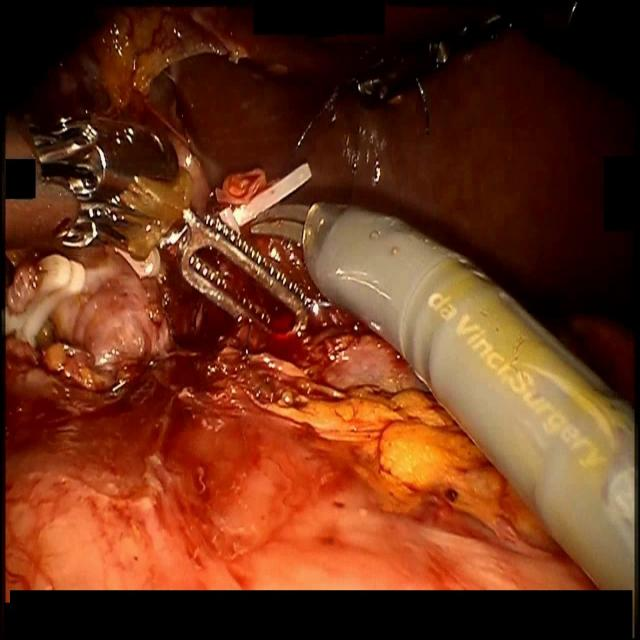surgical-area: (3, 1, 640, 590)
surgical-tool: (292, 200, 636, 589), (3, 117, 312, 340)
